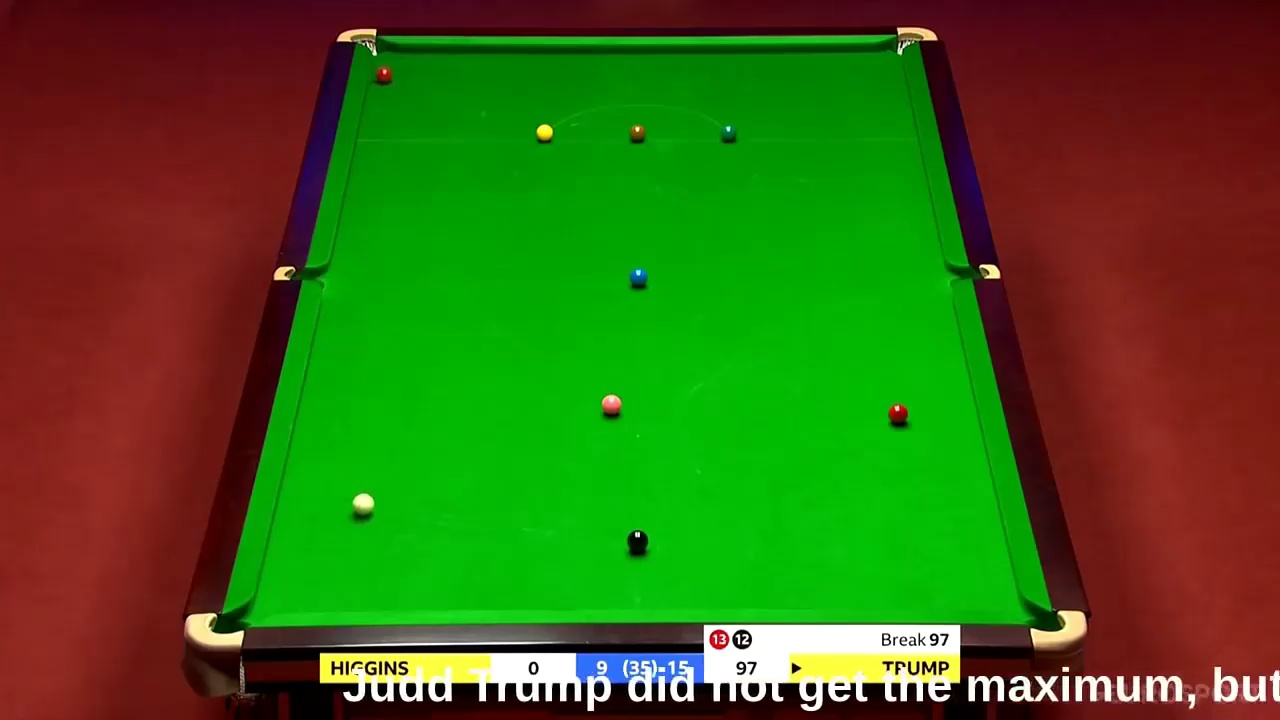ball: (349, 494, 376, 515), (625, 529, 649, 549), (889, 403, 910, 423), (628, 265, 647, 286), (600, 394, 621, 412), (536, 122, 554, 142), (376, 64, 393, 83), (716, 122, 734, 139), (630, 123, 646, 141)
